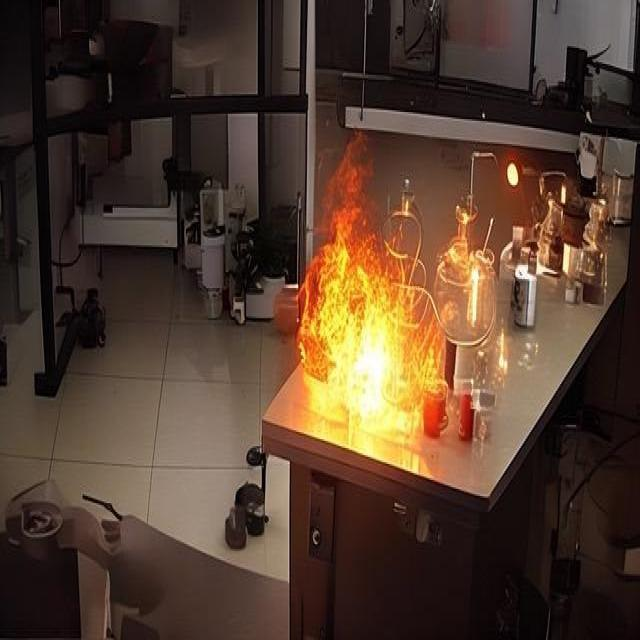smoke: (297, 168, 444, 438)
